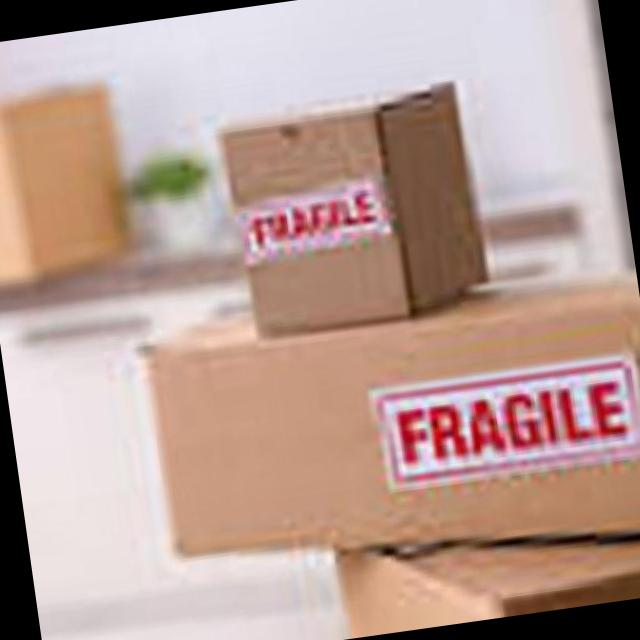box: (140, 298, 640, 558), (217, 81, 490, 333)
